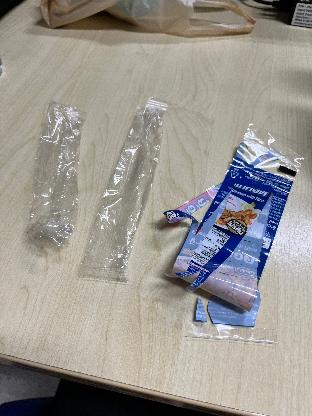Others: (165, 120, 303, 354), (81, 98, 176, 294), (24, 102, 86, 254)
